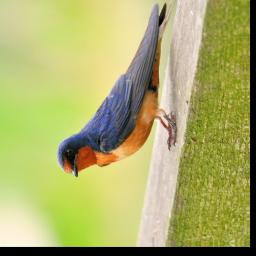Swallow: (49, 1, 186, 182)
